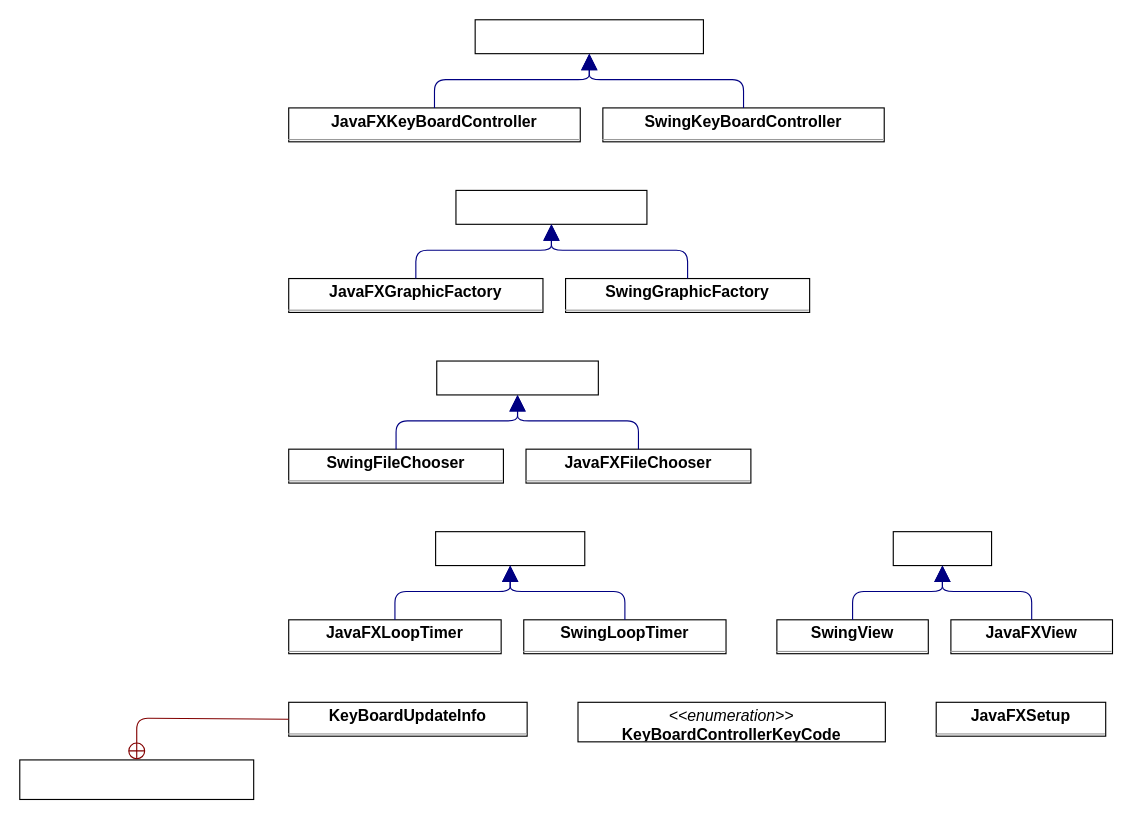
The diagram is 1132 pixels wide and 819 high, and some of its shapes have lost their labels. Here are the shapes that lost their labels. From the top down, the centre of each, then its label:
At point 588,36: "KeyBoardController".
At point 551,206: "GraphicFactory".
At point 517,377: "FileChooser".
At point 509,548: "LoopTimer".
At point 942,548: "View".
At point 136,779: "<<enumeration>> KeyBoardEventType".
